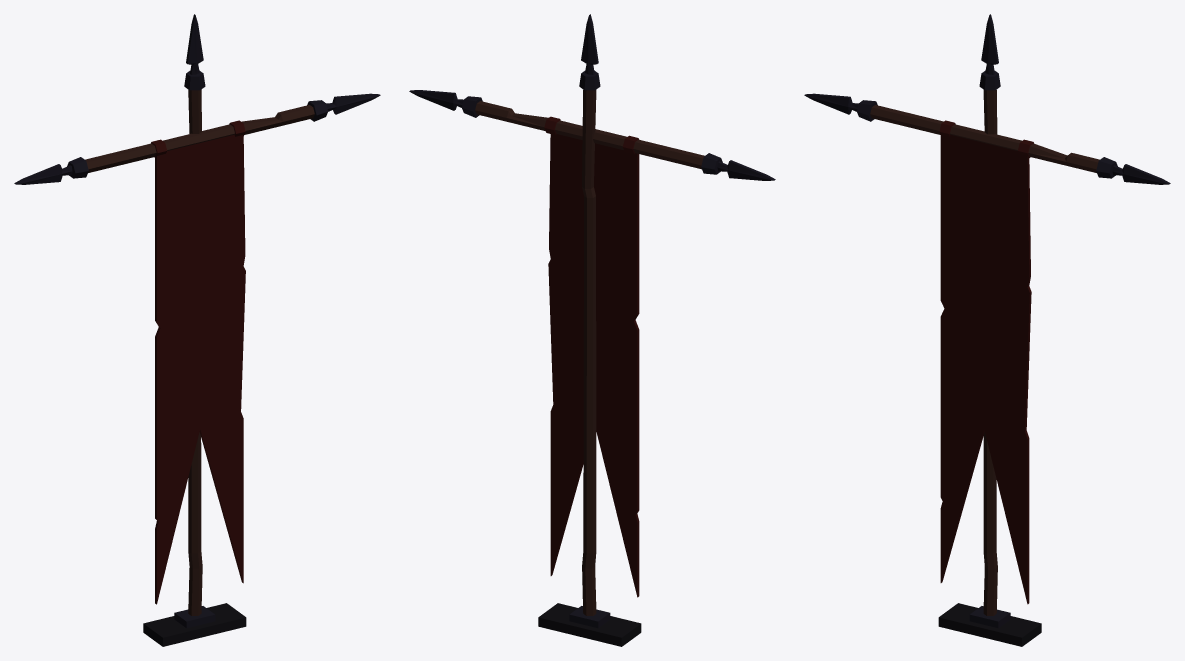
The model's file is Banner.obj.
The picture shows the model from 3 angles, left to right: view 1: azimuth 30°, elevation 25°; view 2: azimuth 150°, elevation 25°; view 3: azimuth 330°, elevation 25°; orthographic projection.
Parts seen in each view (by area): view 1: Banner.001; view 2: Banner.001; view 3: Banner.001.
Part boxes in pixels (bbox=[...]): Banner.001: bbox=[14, 14, 380, 646]; Banner.001: bbox=[409, 14, 775, 646]; Banner.001: bbox=[804, 14, 1170, 646].
Bounding box in the file's own units: 2.36 × 3.8 × 0.2193.
